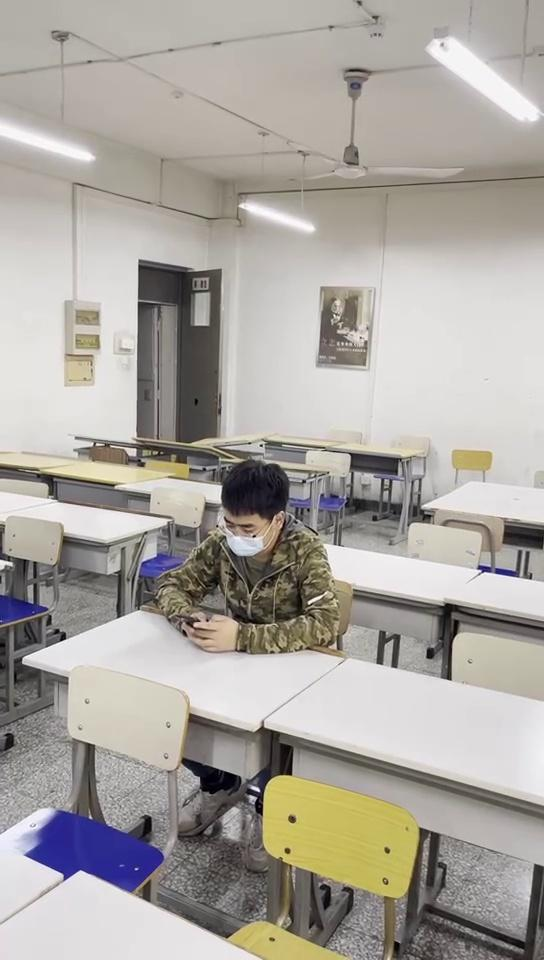phone: (153, 463, 338, 650)
